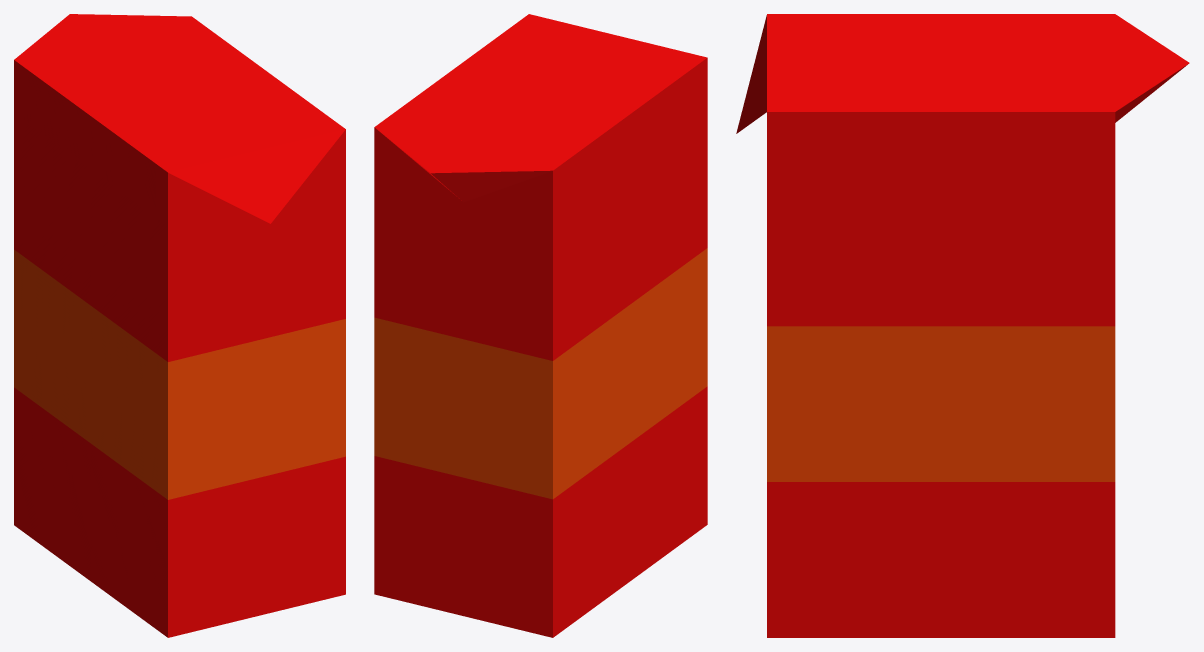
Rendered from Milk.FBX.
3 renders of one model, left to right at view 1: azimuth 30°, elevation 25°; view 2: azimuth 150°, elevation 25°; view 3: azimuth 270°, elevation 25°, orthographic. The views are drawn at different scales.
Parts seen in each view (by area): view 1: Milk001; view 2: Milk001; view 3: Milk001.
Part boxes in pixels (x1=…): Milk001: x1=14, y1=14, x2=345, y2=637; Milk001: x1=374, y1=14, x2=707, y2=637; Milk001: x1=736, y1=14, x2=1189, y2=637.
Bounding box in the file's own units: 13.33 × 33.33 × 26.07.
